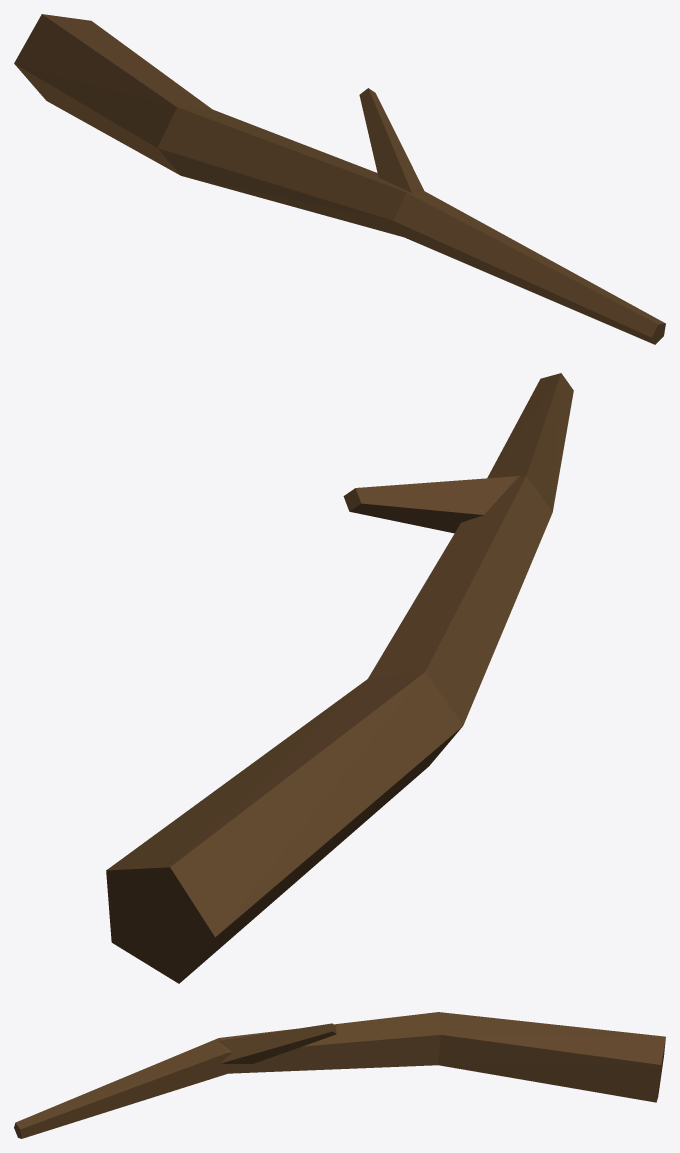
File: HS_LP_Branch_02.fbx
3 renders of one model, top to bottom at view 1: azimuth 30°, elevation 25°; view 2: azimuth 150°, elevation 25°; view 3: azimuth 270°, elevation 25°, orthographic. The views are drawn at different scales.
Visible parts, largest first — view 1: HS_LP_Branch_02; view 2: HS_LP_Branch_02; view 3: HS_LP_Branch_02.
Part boxes in pixels (x1,y1,x2,y2): HS_LP_Branch_02: (14, 14, 665, 344); HS_LP_Branch_02: (106, 373, 573, 983); HS_LP_Branch_02: (14, 1012, 665, 1138).
Bounding box in the file's own units: 25.06 × 15.72 × 84.06.
